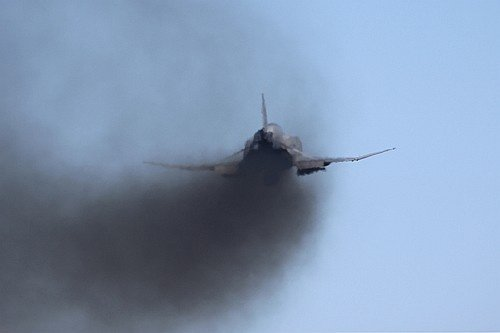F4: (142, 92, 396, 186)
